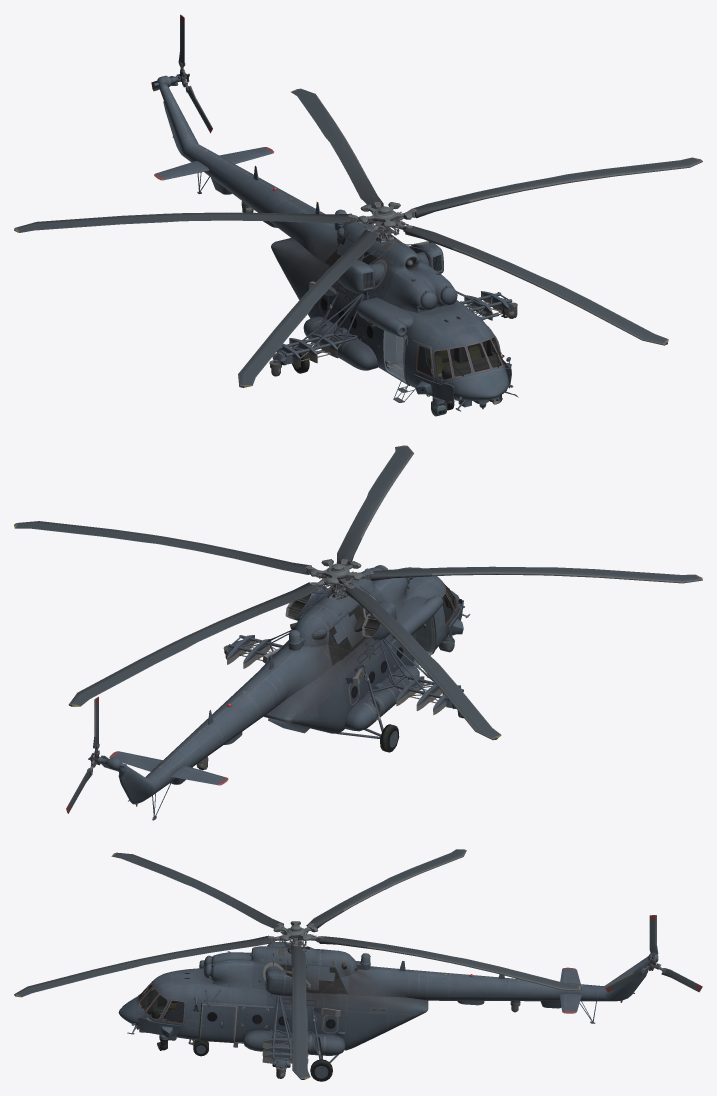
File: mi-171sh__mwt_tank_battles.glb
3 renders of one model, top to bottom at view 1: azimuth 30°, elevation 25°; view 2: azimuth 150°, elevation 25°; view 3: azimuth 270°, elevation 25°, orthographic. The views are drawn at different scales.
Parts seen in each view (by area): view 1: Object_4, Object_3, Object_5, Object_2; view 2: Object_4, Object_3, Object_5; view 3: Object_4, Object_3, Object_5, Object_2.
Part boxes in pixels (x1,y1,x2,y2): Object_4: (153, 75, 518, 411); Object_3: (14, 14, 702, 410); Object_5: (174, 62, 517, 416); Object_2: (416, 335, 504, 407); Object_4: (98, 565, 470, 820); Object_3: (14, 445, 702, 813); Object_5: (87, 559, 463, 774); Object_4: (118, 942, 658, 1063); Object_3: (14, 849, 702, 1081); Object_5: (157, 921, 666, 1078); Object_2: (136, 982, 184, 1028).
Size of the model in its own units: 19.18 by 5.71 by 24.29.
Materials: 2 (1 with a texture image).
